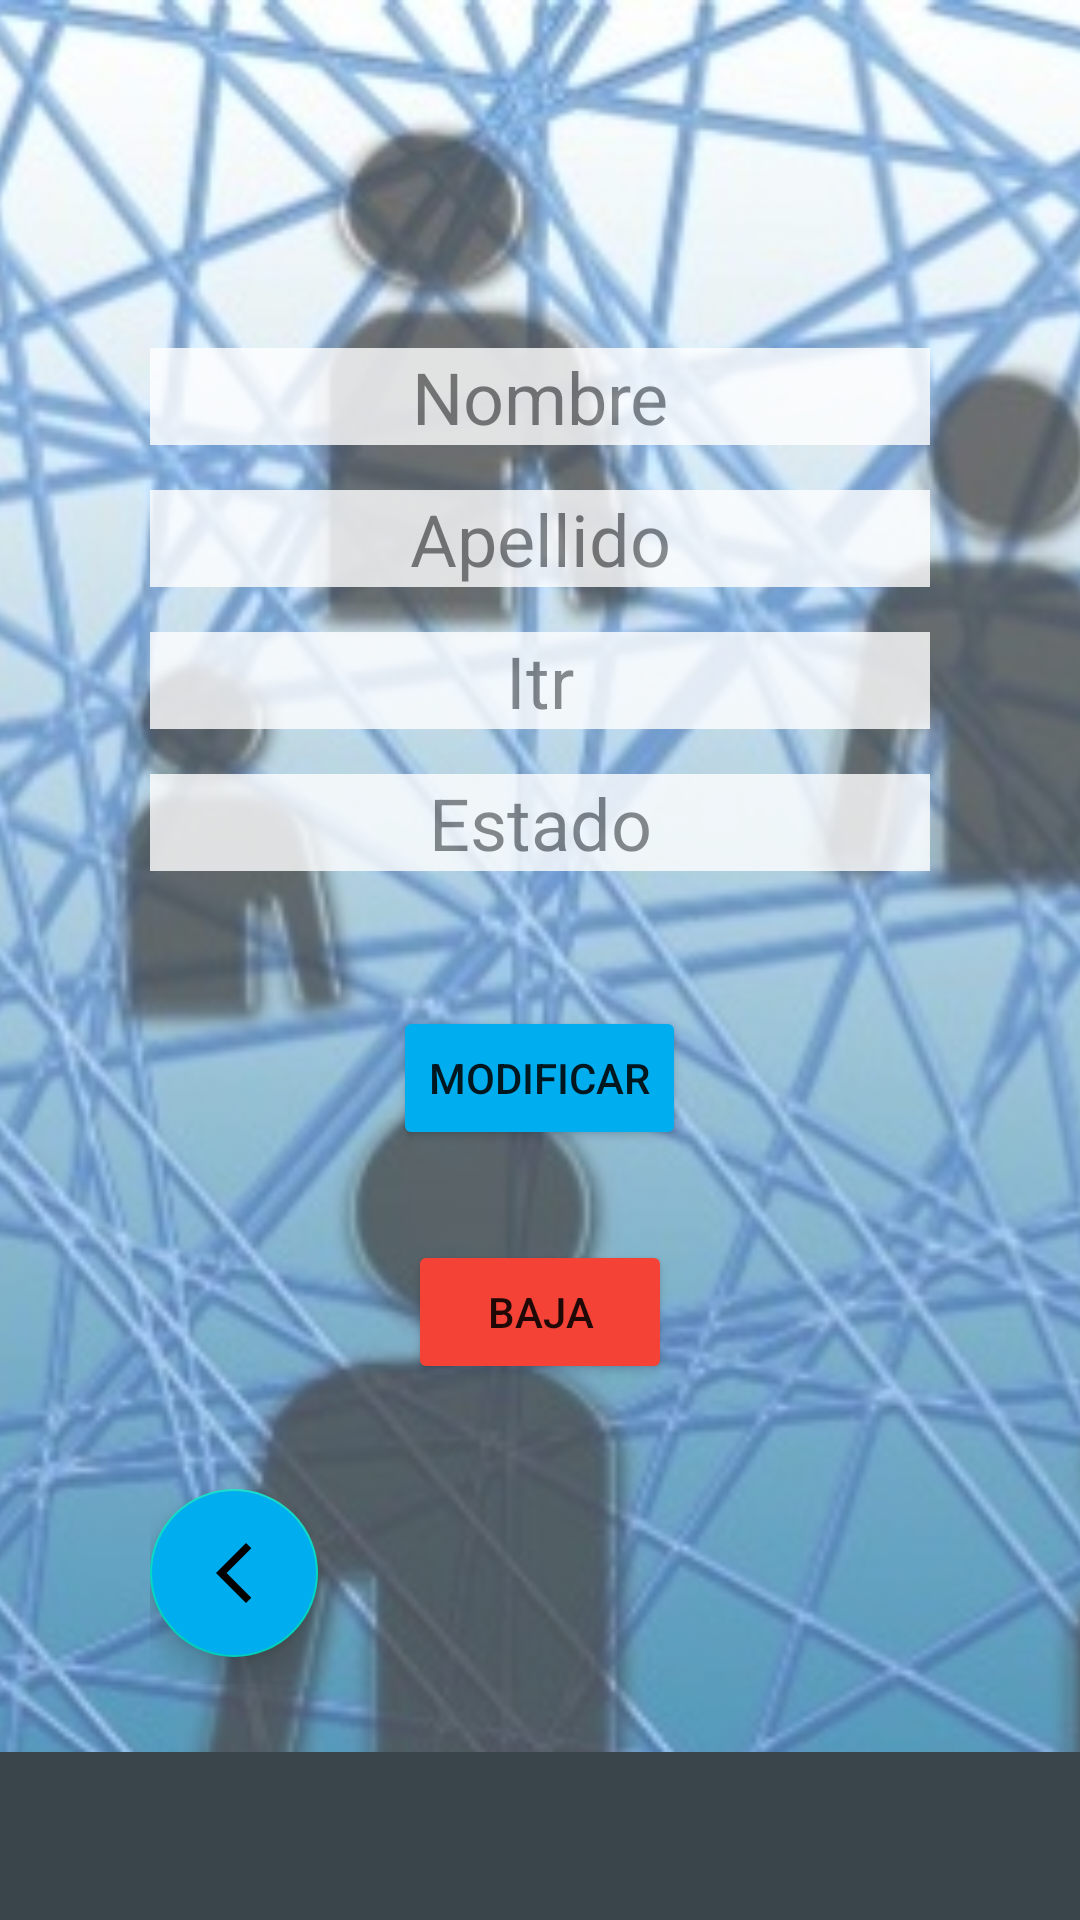

Point at icon controls on the screen. Image size 1080x1920, points as point (x, y).
volver: point (234, 1573)
